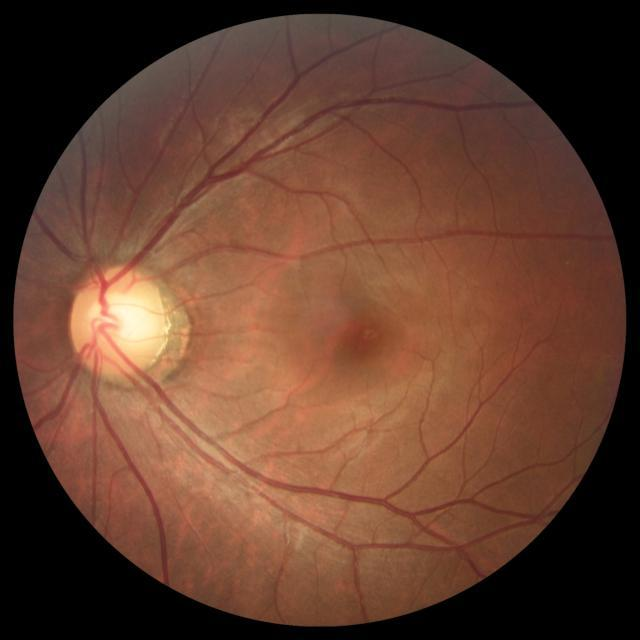OC: (91, 293, 149, 346)
OD: (72, 267, 168, 378)
